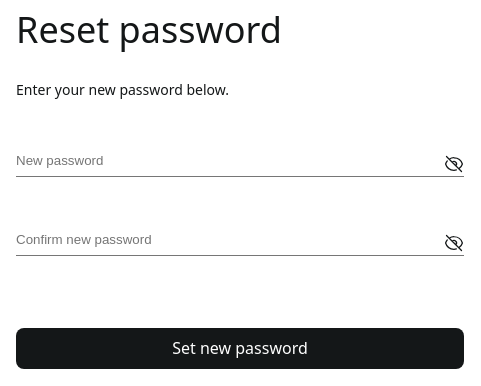
Feature: ResetPasswordPage › shows error when passwords do not match
The image size is (481, 386).
Type "Strongpass1!" into the password field with placeholder "New password" at (240, 164), box [16, 152, 464, 177]
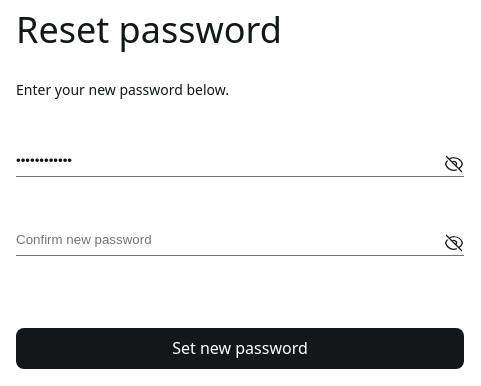
Type "Different1!" into the password field with placeholder "Confirm new password" at (240, 243), box [16, 231, 464, 256]
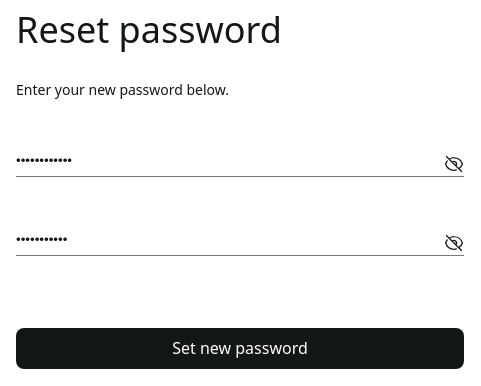
Click the button "Set new password" at (240, 348), box [16, 328, 464, 369]
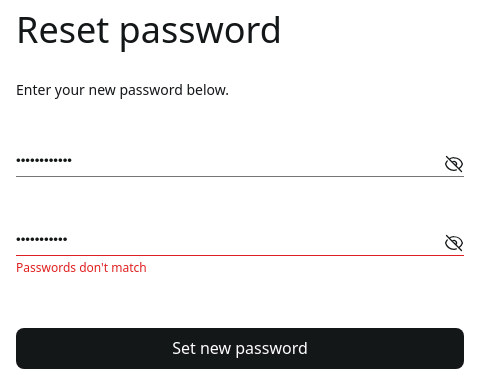
Expected: the text "Passwords don't match" is shown, [16, 259, 147, 276]
